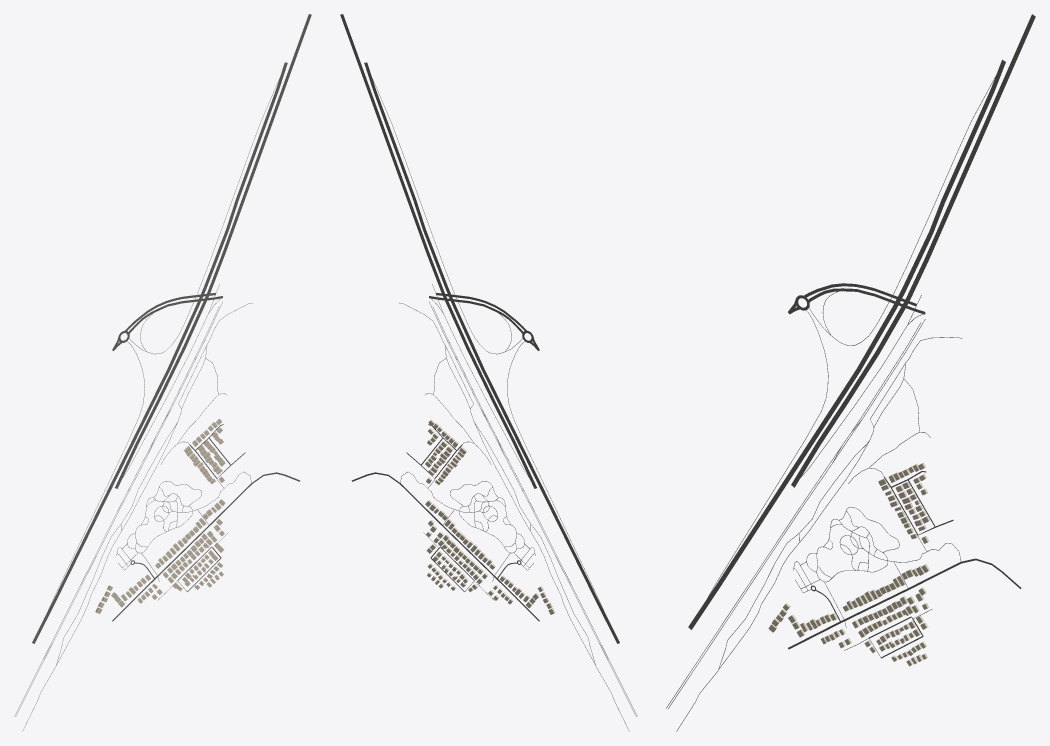
Rendered from historic-palestine-05_24_3472_3188.glb.
3 views of the same model, side by side, from view 1: azimuth 30°, elevation 25°; view 2: azimuth 150°, elevation 25°; view 3: azimuth 330°, elevation 25° (orthographic). The views are drawn at different scales.
Visible parts, largest first — view 1: Road 4, Road 4.001; view 2: Road 4, Road 4.001; view 3: Road 4, Road 4.001, Road השרון.
Part boxes in pixels (<box>): Road 4: <box>32,62,287,643</box>; Road 4.001: <box>115,14,311,488</box>; Road 4: <box>364,62,619,643</box>; Road 4.001: <box>340,14,536,488</box>; Road 4: <box>688,59,1005,629</box>; Road 4.001: <box>791,14,1035,487</box>; Road השרון: <box>788,558,1021,649</box>.
Size of the model in its own units: 1082 by 2249 by 8.7.
